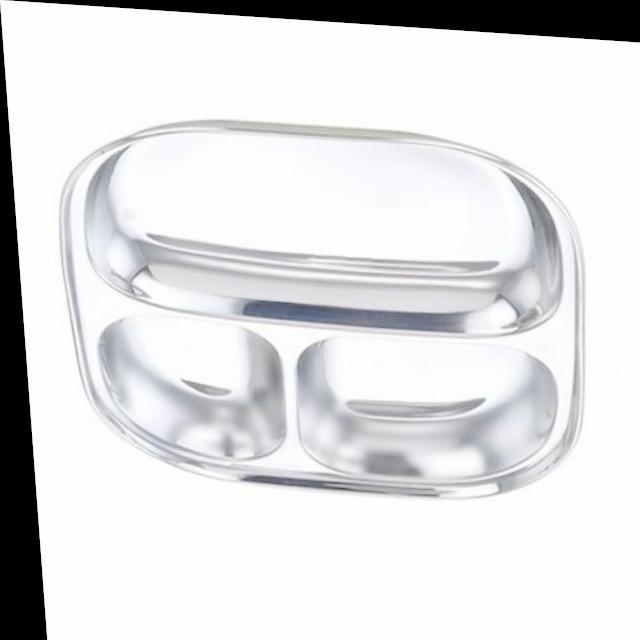plate: (40, 100, 604, 520)
